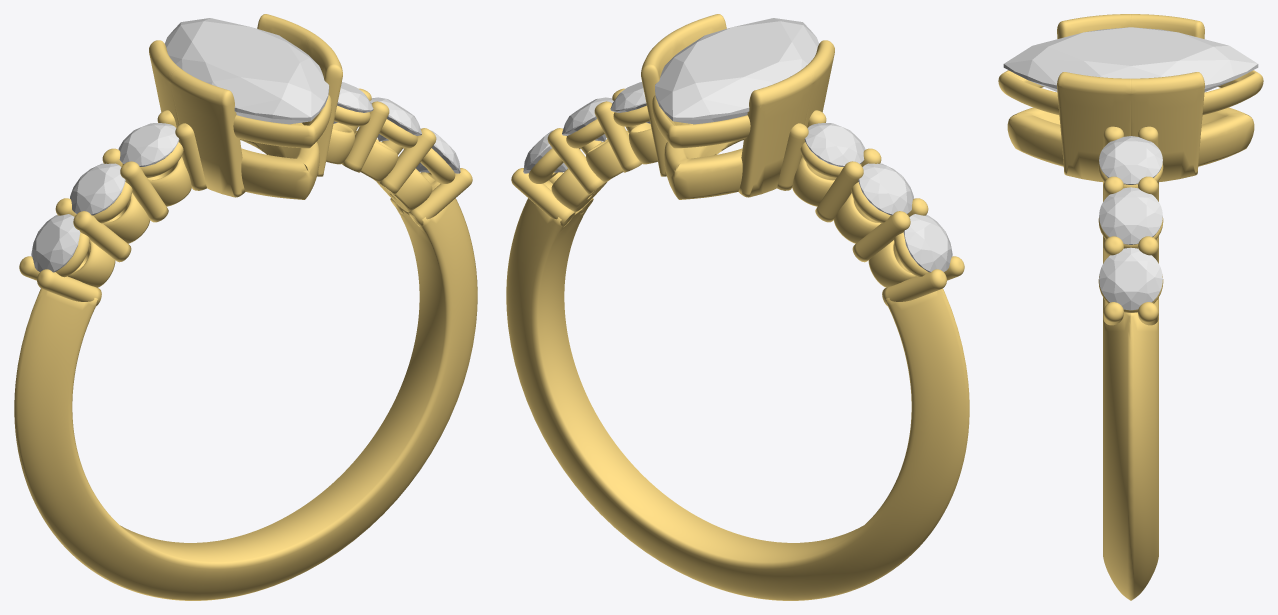
Rendered from diamond-marquise-yellowgold-halfmoonbezel-knifeedge-7stone.glb.
3 renders of one model, left to right at view 1: azimuth 30°, elevation 25°; view 2: azimuth 150°, elevation 25°; view 3: azimuth 270°, elevation 25°, orthographic. The views are drawn at different scales.
Visible parts, largest first — view 1: metal.003, stone.002, side.002, side.013, side.014, side.016, side.017, side.015; view 2: metal.003, stone.002, side.002, side.013, side.014, side.016, side.017, side.015; view 3: metal.003, stone.002, side.015, side.016, side.017.
Boxes of the visible parts, x1=… form: metal.003: x1=14, y1=14, x2=477, y2=600; stone.002: x1=165, y1=18, x2=329, y2=124; side.002: x1=31, y1=214, x2=80, y2=272; side.013: x1=70, y1=163, x2=125, y2=215; side.014: x1=118, y1=123, x2=179, y2=166; side.016: x1=370, y1=97, x2=421, y2=141; side.017: x1=333, y1=82, x2=373, y2=123; side.015: x1=416, y1=128, x2=460, y2=173; metal.003: x1=506, y1=14, x2=969, y2=600; stone.002: x1=655, y1=18, x2=818, y2=124; side.002: x1=903, y1=214, x2=952, y2=272; side.013: x1=858, y1=163, x2=913, y2=215; side.014: x1=804, y1=123, x2=865, y2=166; side.016: x1=562, y1=97, x2=613, y2=141; side.017: x1=610, y1=82, x2=650, y2=123; side.015: x1=523, y1=128, x2=567, y2=173; metal.003: x1=998, y1=14, x2=1263, y2=600; stone.002: x1=1003, y1=27, x2=1258, y2=91; side.015: x1=1099, y1=247, x2=1162, y2=310; side.016: x1=1099, y1=187, x2=1162, y2=244; side.017: x1=1099, y1=136, x2=1162, y2=184.
Size of the model in its own units: 20.5 by 22.93 by 10.4.
